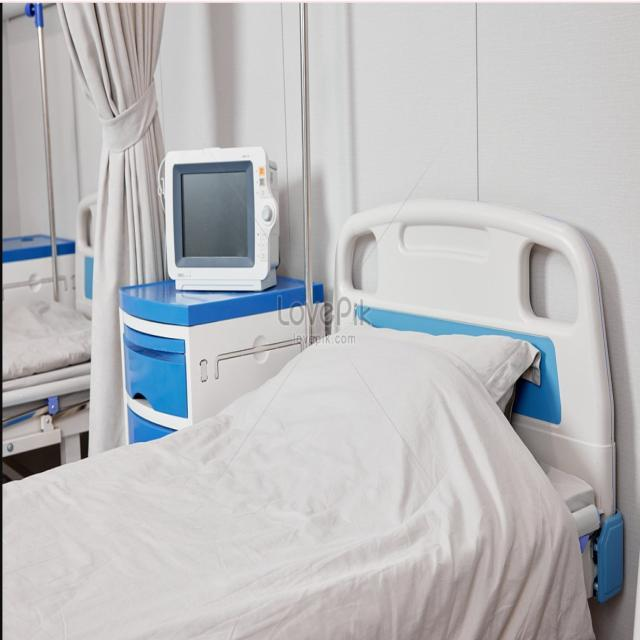Monitor: (157, 144, 280, 293)
bed: (1, 196, 619, 638)
